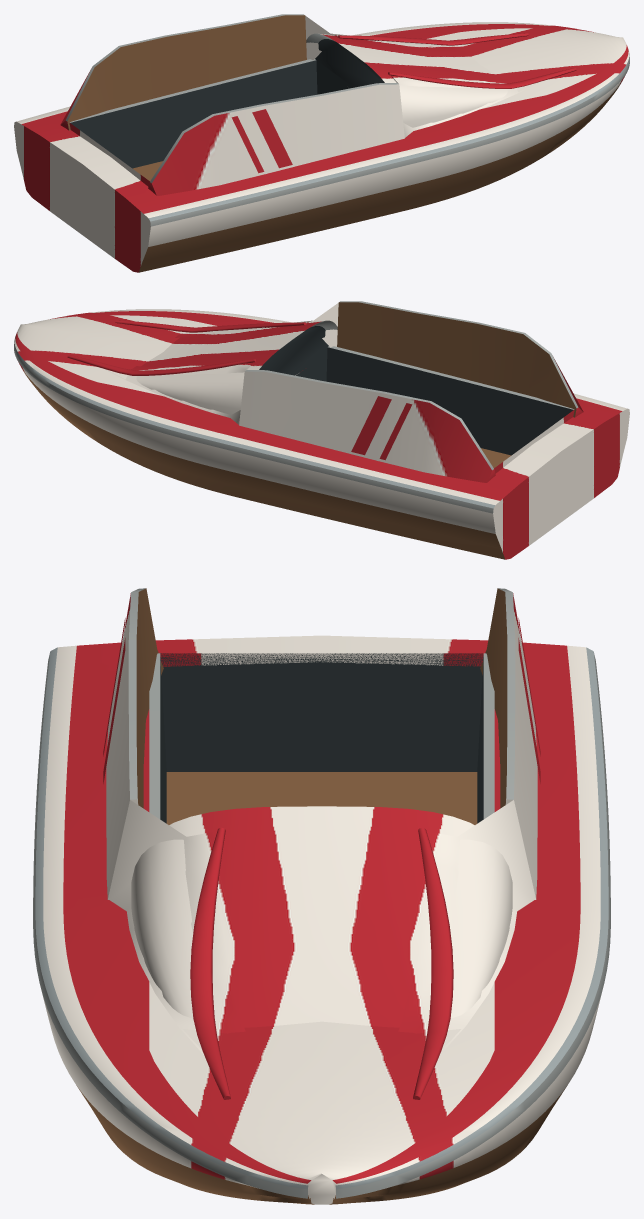
The model's file is Hull_09_R_朱差し・折返し.glb.
3 views of the same model, one above another, from view 1: azimuth 30°, elevation 25°; view 2: azimuth 150°, elevation 25°; view 3: azimuth 270°, elevation 25° (orthographic). The views are drawn at different scales.
Parts seen in each view (by area): view 1: Hull_09_R; view 2: Hull_09_R; view 3: Hull_09_R.
Boxes of the visible parts, x1,y1,x2,y2 form: Hull_09_R: [14, 14, 629, 272]; Hull_09_R: [14, 301, 629, 559]; Hull_09_R: [33, 588, 610, 1204].
Size of the model in its own units: 2.9 by 0.6856 by 1.34.
4 materials, 4 textured.
